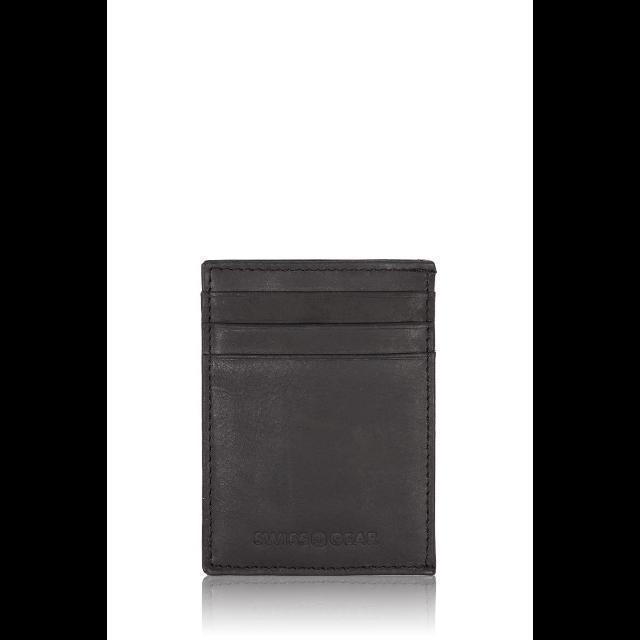wallet: (191, 248, 447, 594)
